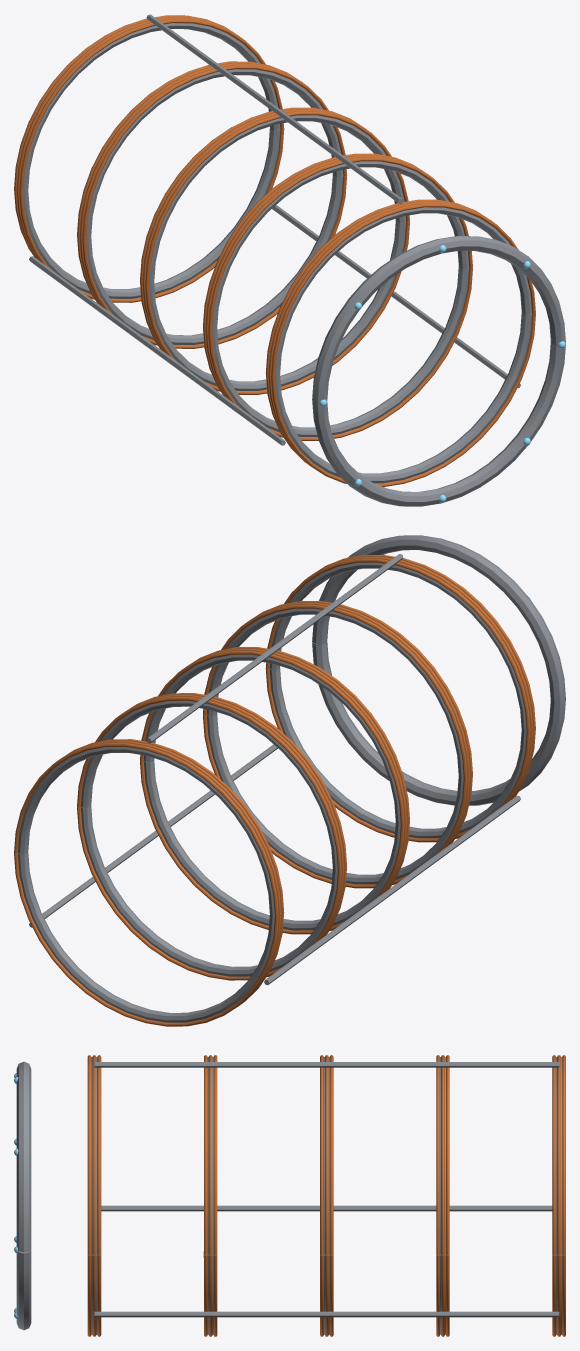
File: bastion_engine_ep.fbx
3 views of the same model, one above another, from view 1: azimuth 30°, elevation 25°; view 2: azimuth 150°, elevation 25°; view 3: azimuth 270°, elevation 25° (orthographic). The views are drawn at different scales.
Visible parts, largest first — view 1: Engine_Coils; view 2: Engine_Coils; view 3: Engine_Coils.
Boxes of the visible parts, x1,y1,x2,y2 form: Engine_Coils: [14, 14, 565, 506]; Engine_Coils: [14, 535, 565, 1026]; Engine_Coils: [14, 1055, 565, 1336].
Bounding box in the file's own units: 116 × 118 × 227.
